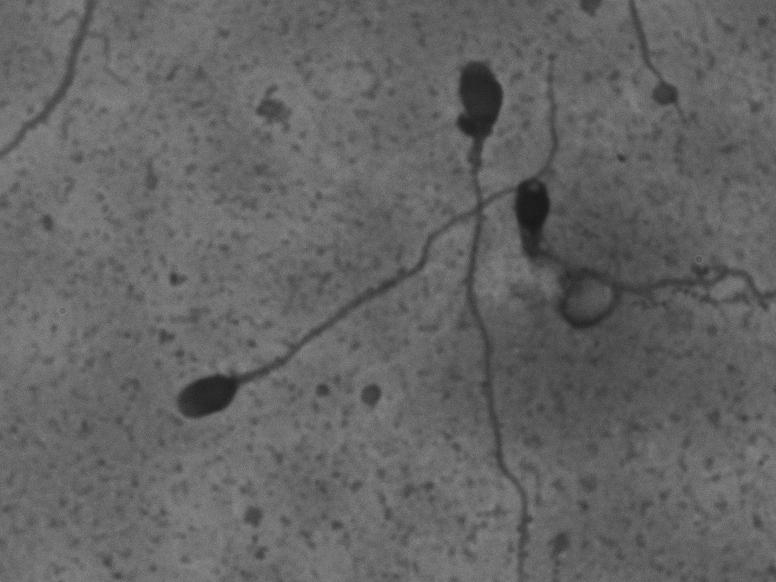Abnormal: (508, 173, 753, 342), (438, 56, 510, 573)
Normal: (168, 54, 564, 429)
